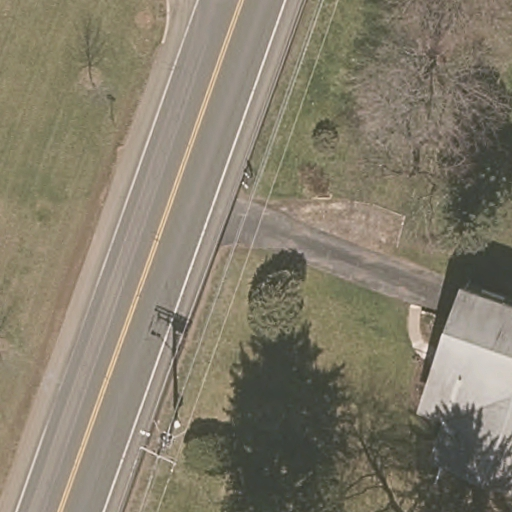DT: (138, 443, 177, 468)
